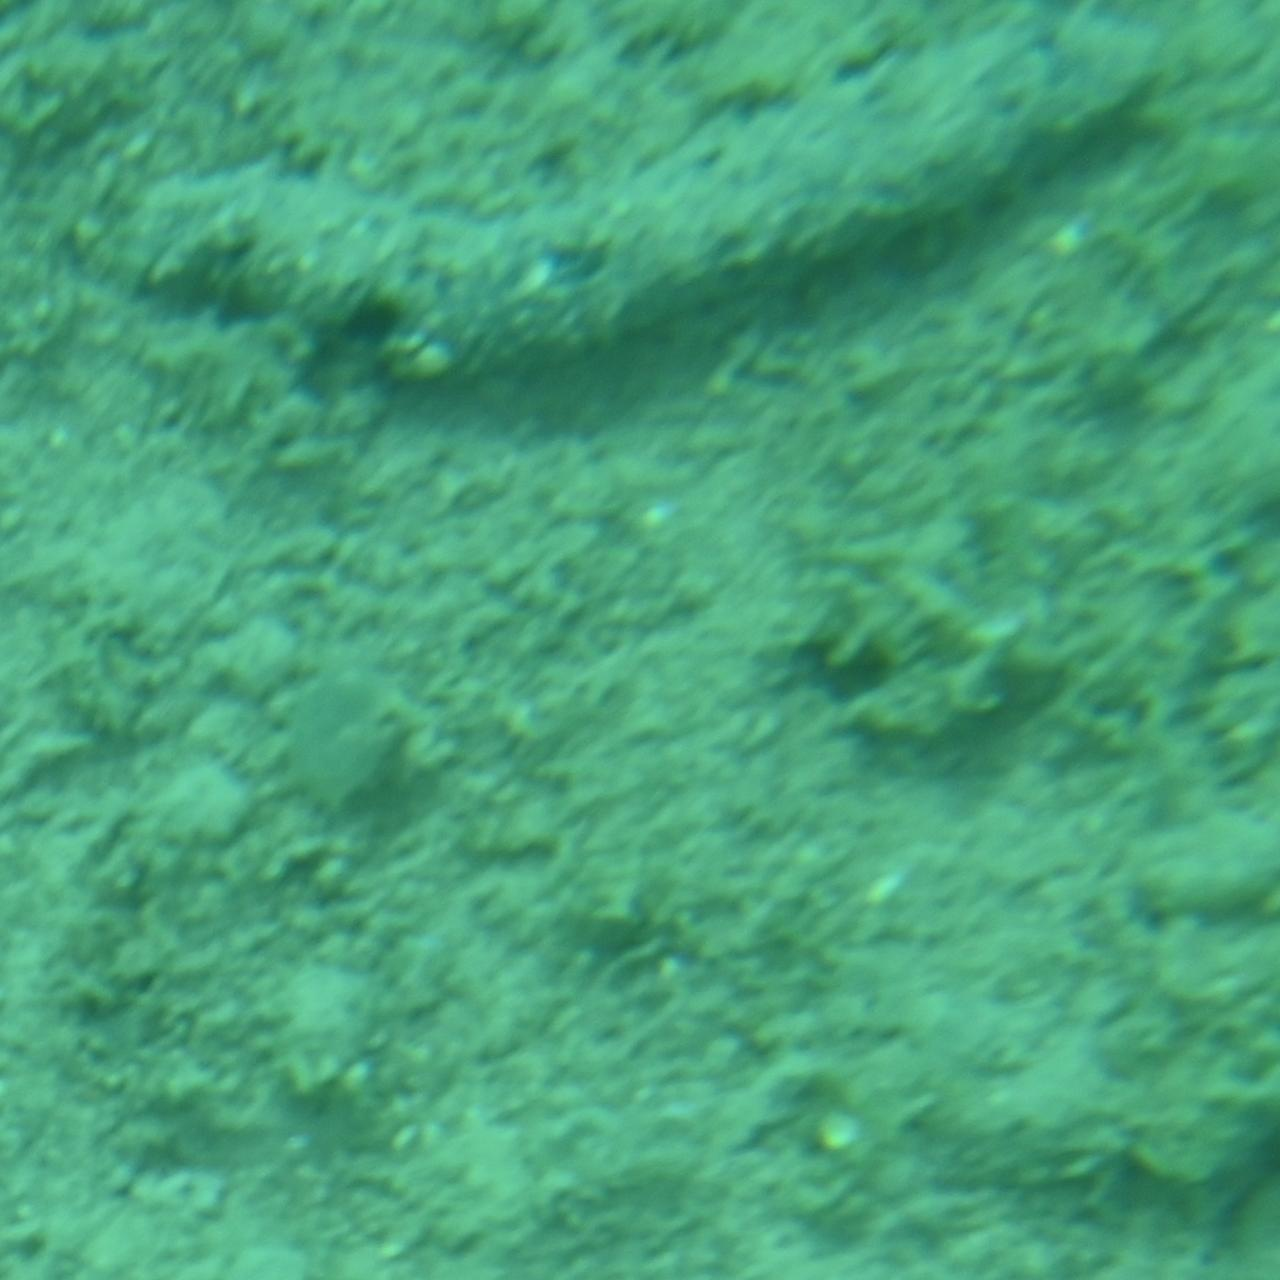Holothuria tubulosa: (108, 3, 1172, 380)
